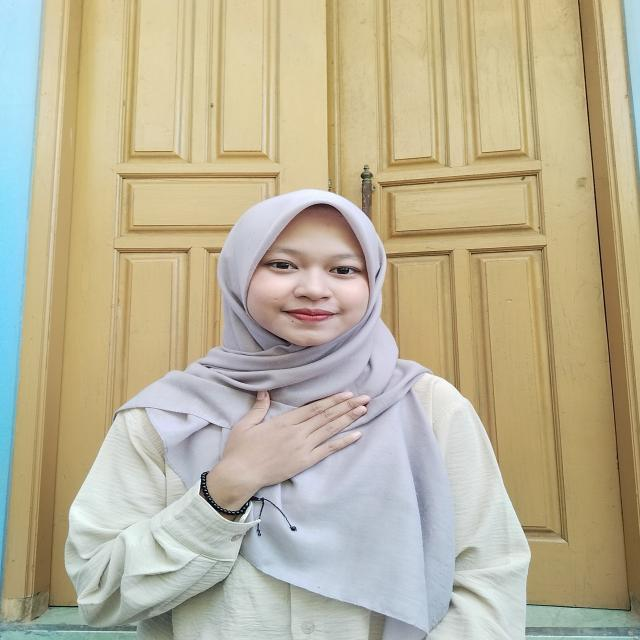tolong: (155, 388, 378, 536)
